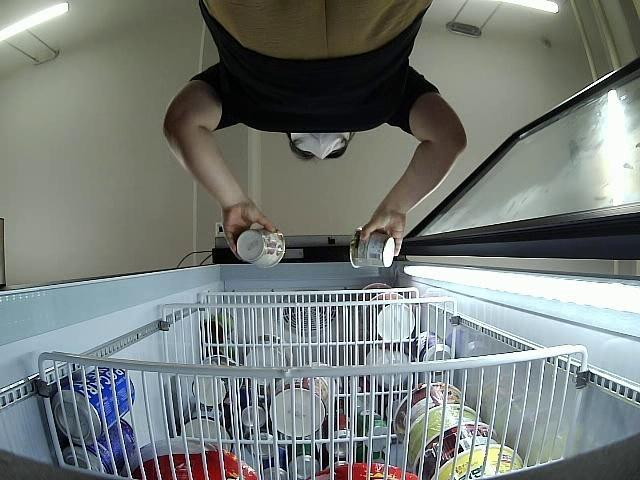04_chapagetti_S: (236, 227, 285, 270), (349, 224, 394, 267)
